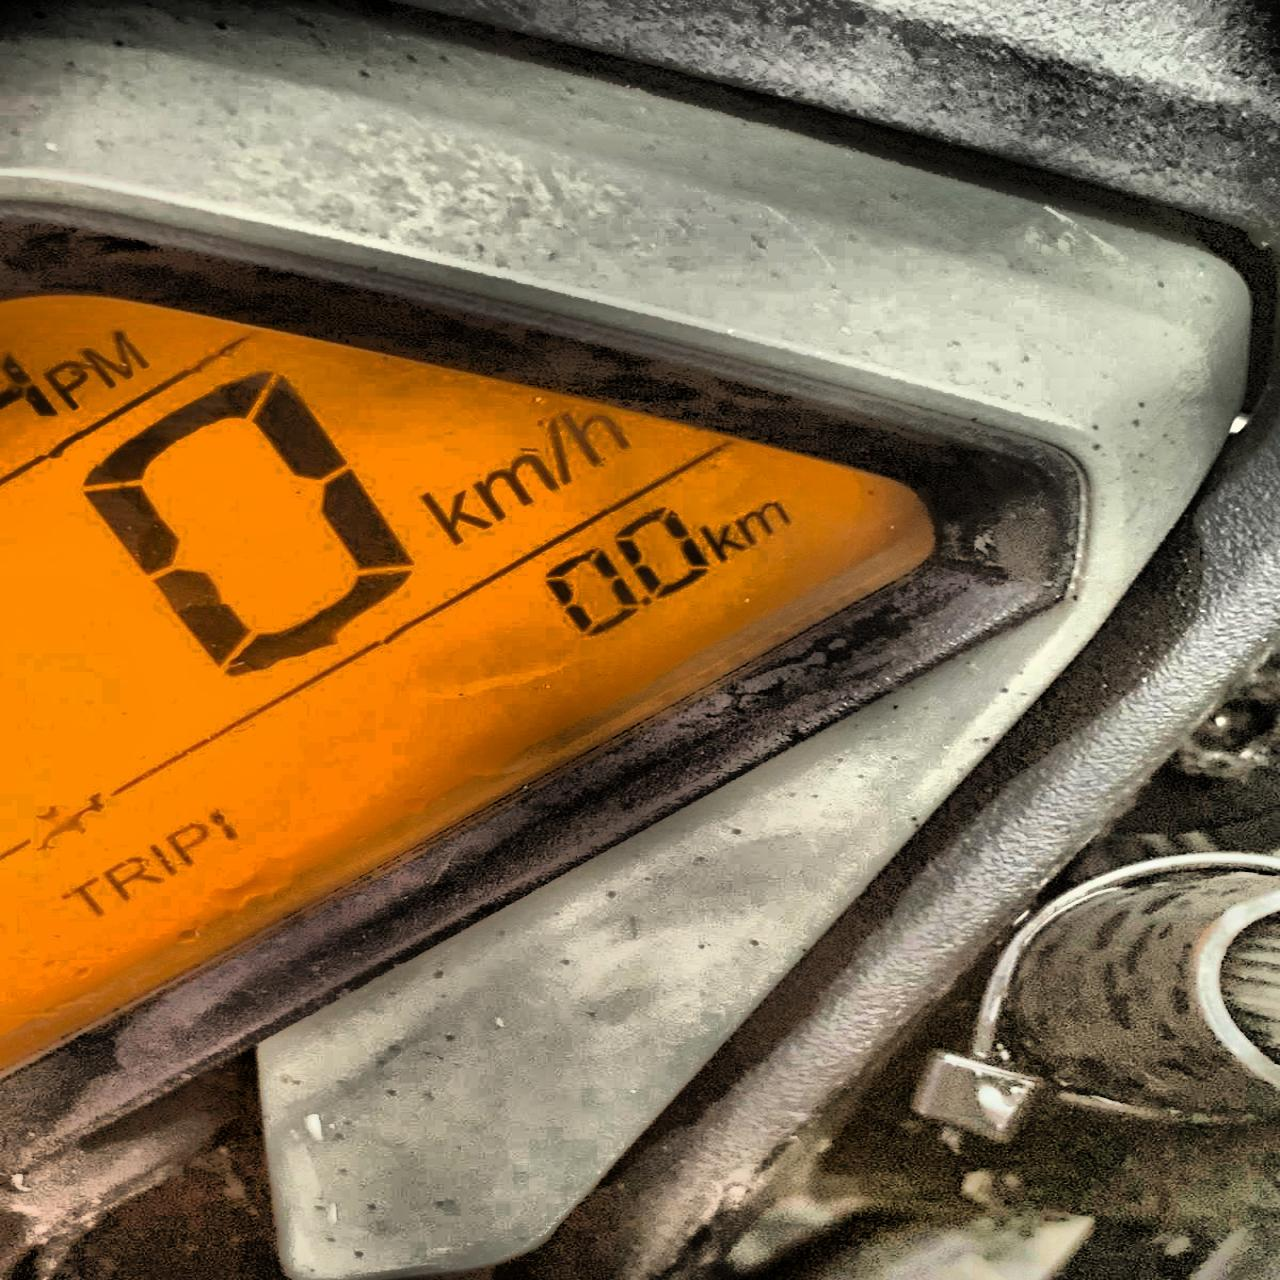-: (635, 588, 656, 610)
0: (80, 382, 421, 669), (542, 542, 638, 641), (614, 510, 708, 597)
1: (207, 797, 252, 851)
X: (471, 449, 560, 513), (558, 399, 636, 468), (80, 322, 155, 388), (415, 488, 488, 546), (49, 878, 113, 922), (102, 853, 158, 903), (738, 497, 794, 543), (543, 416, 577, 484), (163, 821, 209, 870), (49, 356, 91, 407), (696, 524, 744, 559), (143, 838, 173, 884)
odometer: (0, 241, 1005, 1091)
